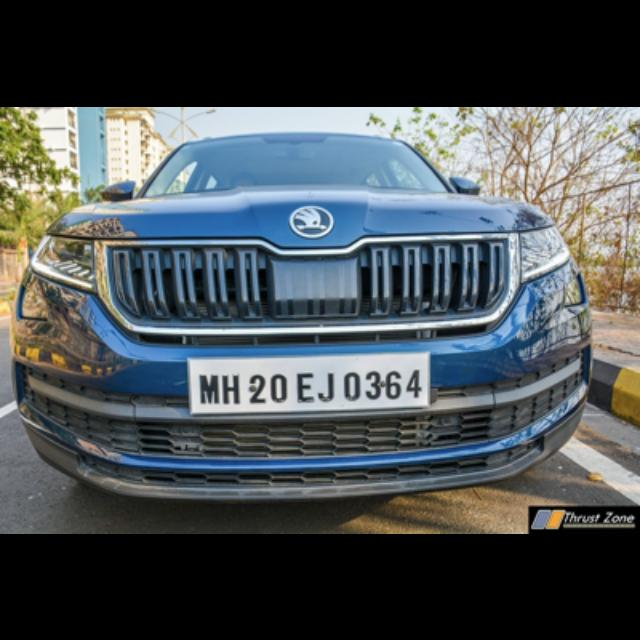carPlate: (186, 350, 430, 414)
